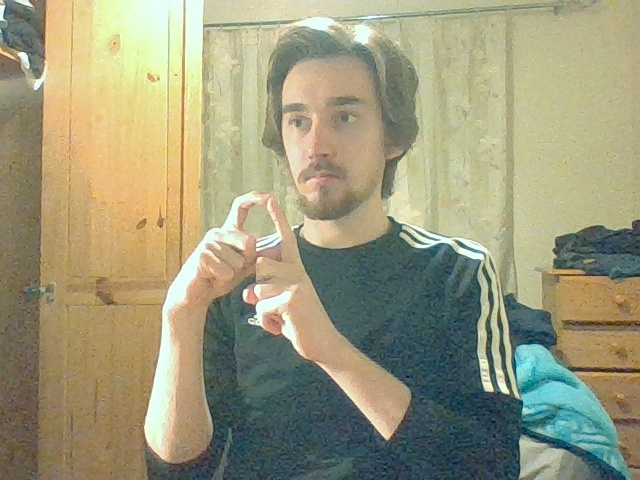daughter: (205, 190, 307, 308)
